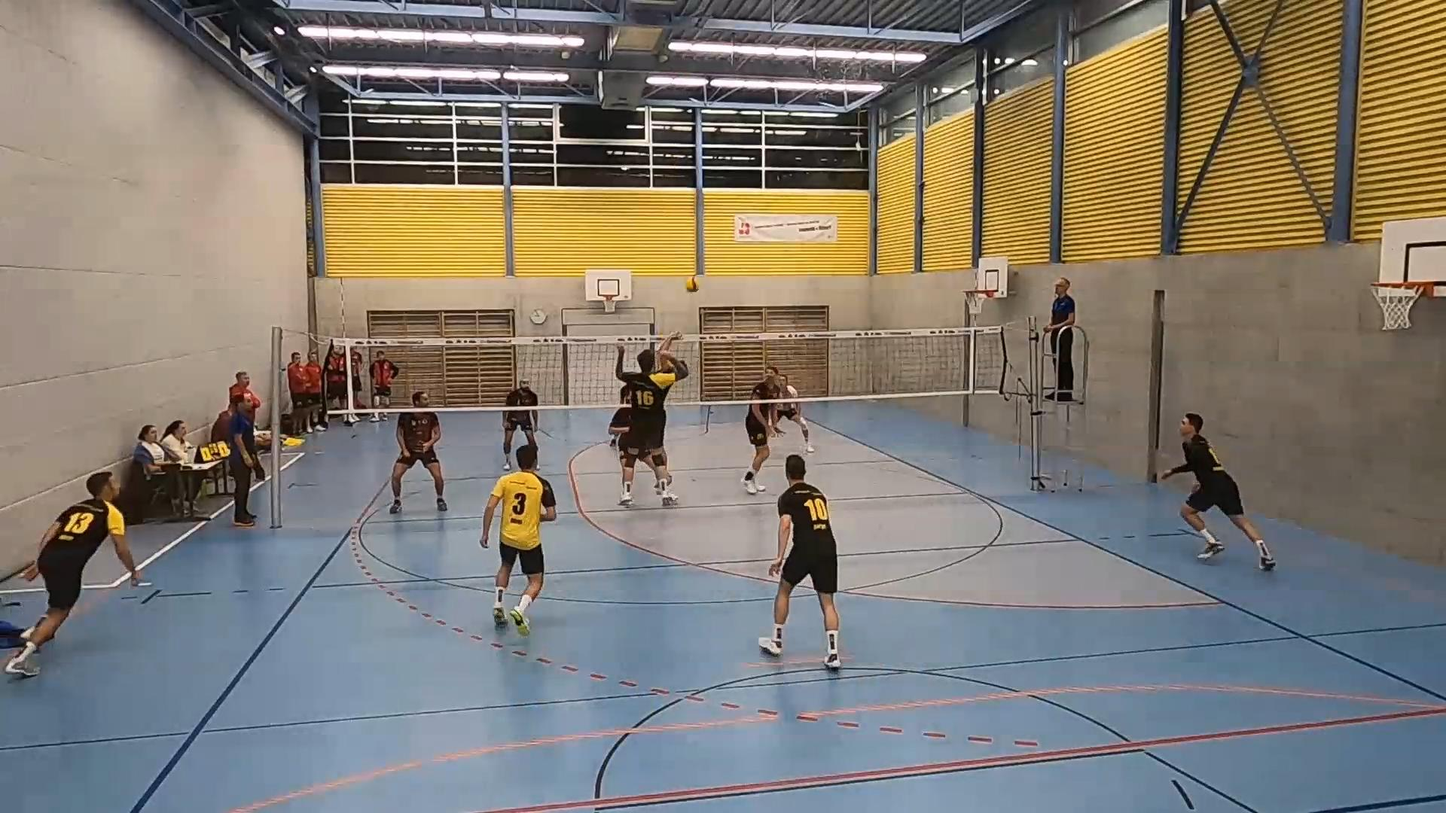Block: (614, 339, 690, 494)
Player: (4, 472, 140, 677), (1161, 413, 1275, 571), (758, 455, 840, 669), (480, 445, 556, 635), (390, 412, 447, 513), (743, 365, 779, 494), (503, 379, 538, 470), (777, 374, 814, 453), (608, 386, 633, 468), (608, 385, 630, 447)
ball: (686, 277, 704, 291)
